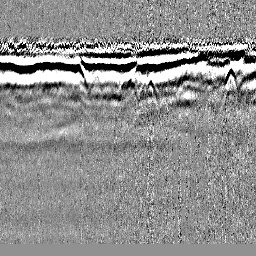cavity: (116, 71, 139, 100)
